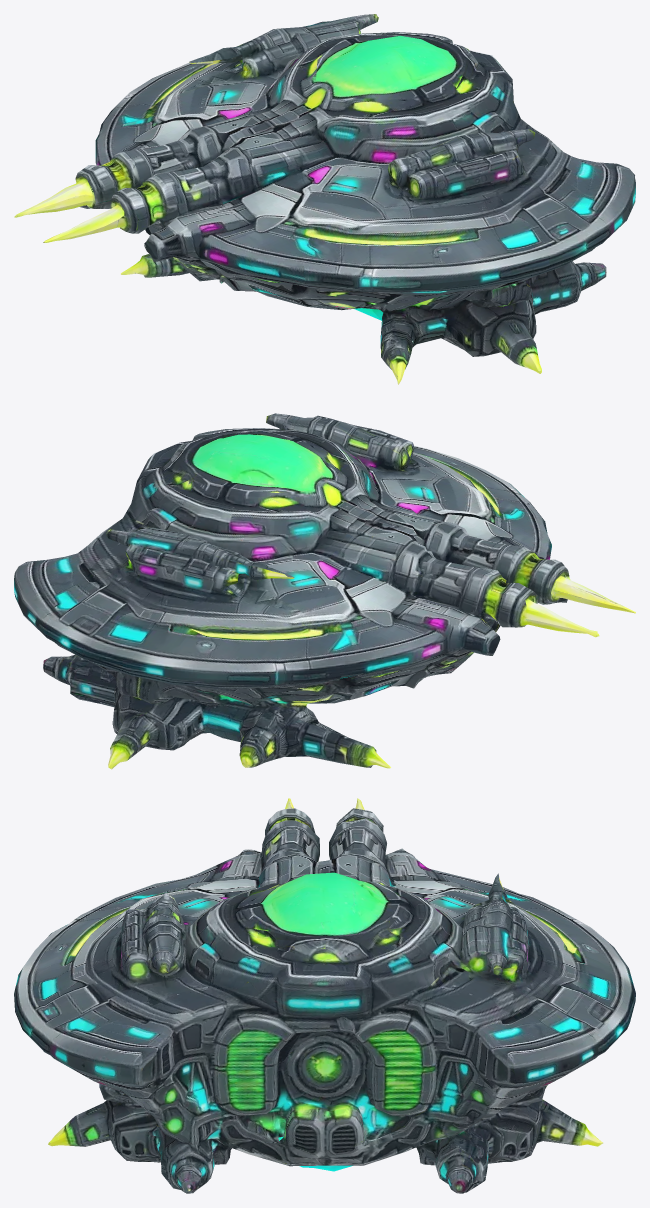
The model's file is troop_dragon.glb.
The picture shows the model from 3 angles, top to bottom: view 1: azimuth 30°, elevation 25°; view 2: azimuth 150°, elevation 25°; view 3: azimuth 270°, elevation 25°; orthographic projection. The views are drawn at different scales.
Parts seen in each view (by area): view 1: Mesh0; view 2: Mesh0; view 3: Mesh0.
Part boxes in pixels (x1,y1,x2,y2): Mesh0: (14,14,635,384); Mesh0: (14,413,635,769); Mesh0: (14,798,635,1193).
Bounding box in the file's own units: 1.88 × 0.9164 × 1.85.
Materials: 1 (1 with a texture image).
